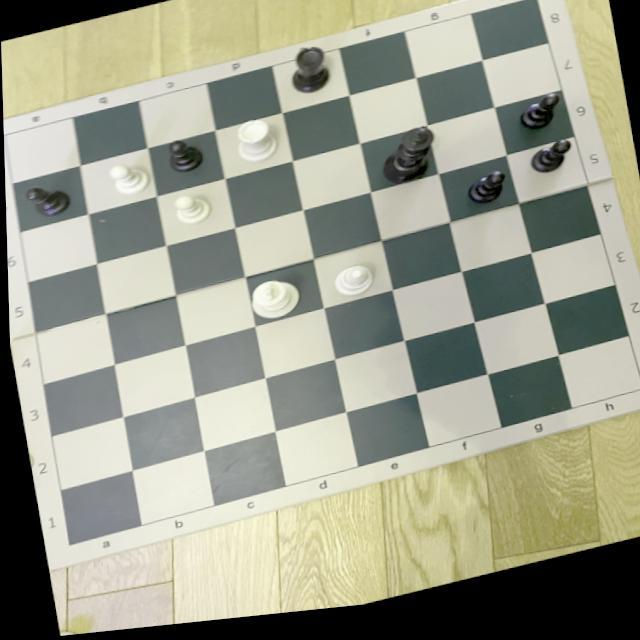chess-table-corners: (527, 0, 551, 19), (56, 538, 78, 556), (3, 127, 20, 146), (628, 394, 640, 410)
